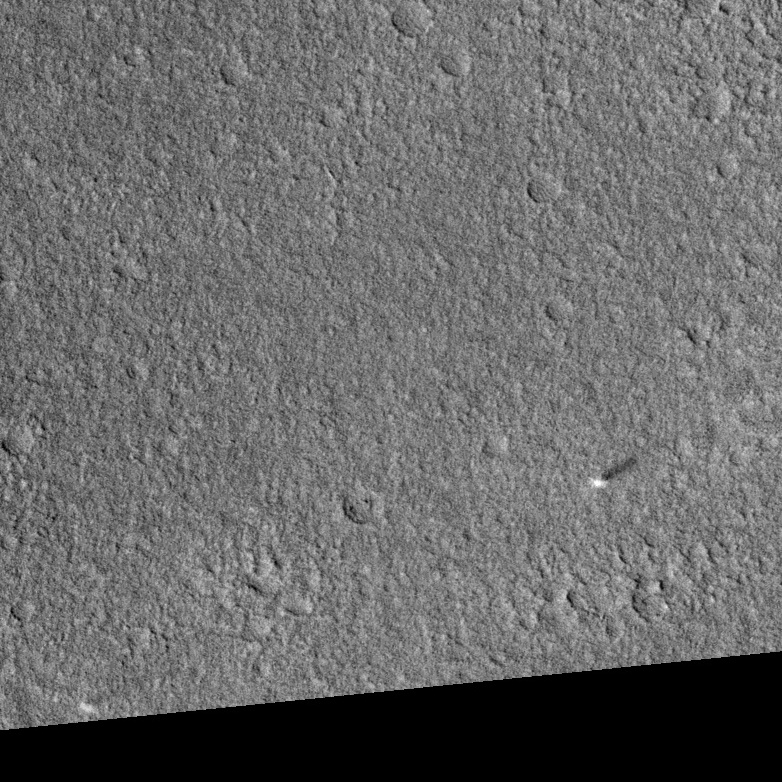dust_devil: (592, 456, 638, 489)
